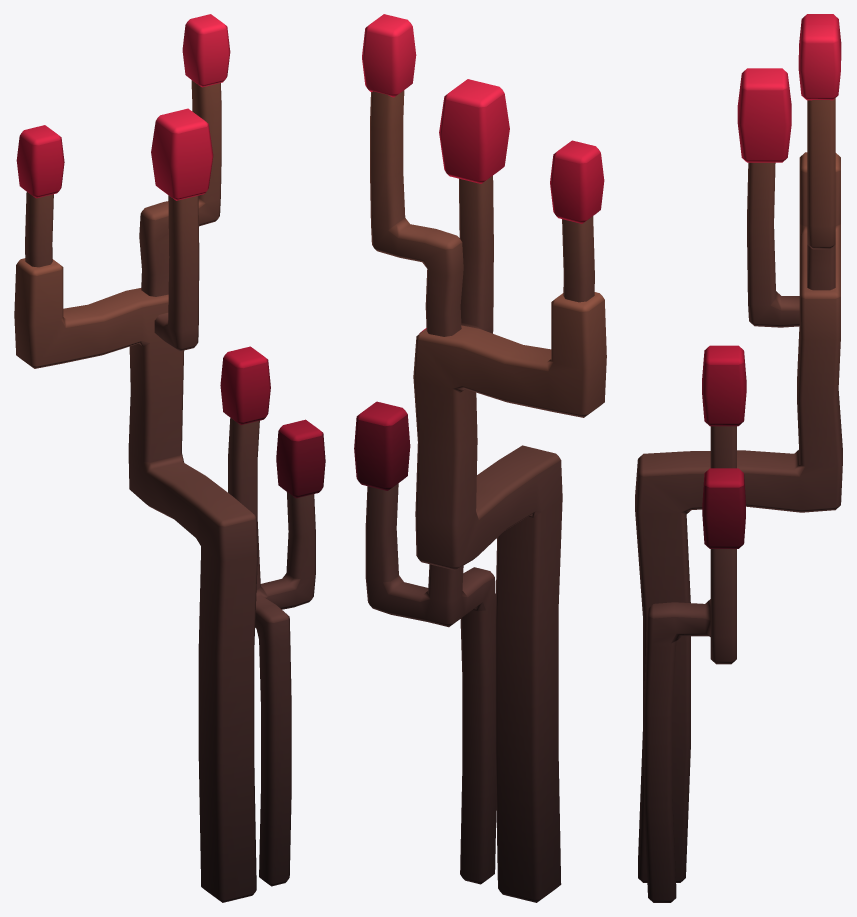
Rendered from shrub_04.fbx.
3 renders of one model, left to right at view 1: azimuth 30°, elevation 25°; view 2: azimuth 150°, elevation 25°; view 3: azimuth 270°, elevation 25°, orthographic. The views are drawn at different scales.
Parts seen in each view (by area): view 1: shrub_04; view 2: shrub_04; view 3: shrub_04.
Boxes of the visible parts, box(x1,y1,x2,y2) form: shrub_04: box(14, 14, 325, 902); shrub_04: box(354, 14, 606, 902); shrub_04: box(635, 14, 842, 902).
Bounding box in the file's own units: 144 × 439 × 94.91.
